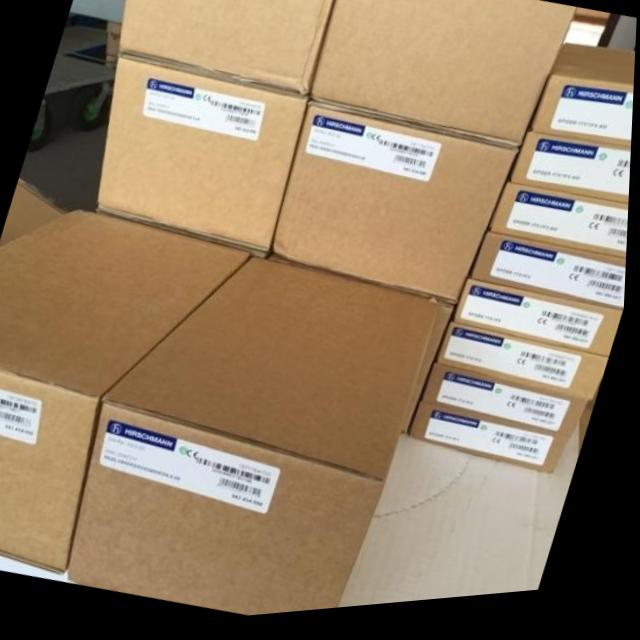box: (70, 255, 458, 620), (0, 208, 258, 577), (271, 102, 521, 315), (96, 55, 310, 258), (310, 0, 578, 159), (117, 0, 336, 102), (438, 329, 612, 413), (453, 285, 626, 368), (424, 369, 595, 450), (471, 241, 629, 322), (411, 407, 574, 484), (488, 191, 631, 270), (529, 53, 636, 158), (509, 140, 633, 215), (0, 176, 68, 247), (583, 413, 596, 465)
